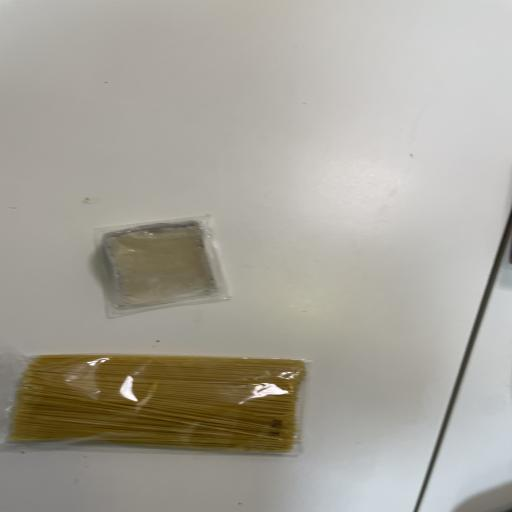cured_goat_cheese: (95, 209, 235, 321)
spaghetti: (3, 348, 314, 460)
